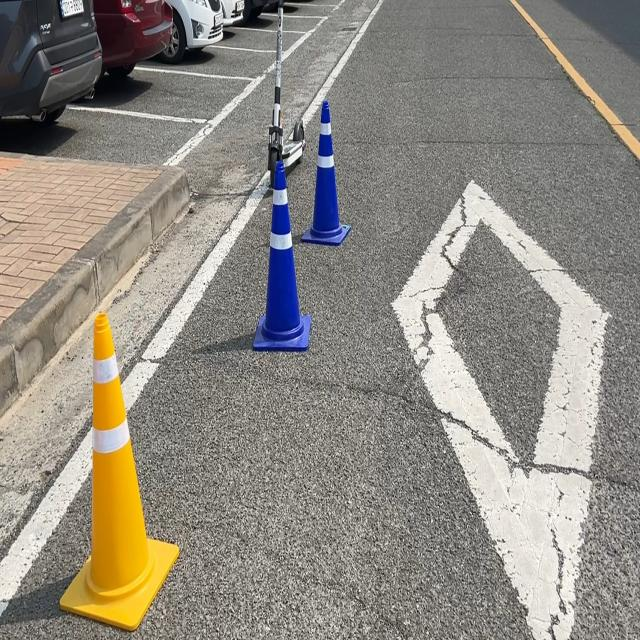b_rub: (253, 159, 311, 350), (302, 98, 351, 244)
y_rub: (59, 312, 179, 631)
